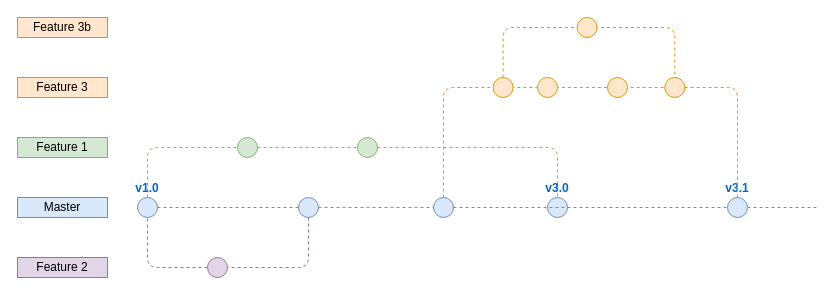
This 836x295 diagram has some shape labels left out. The centre of each missing label's shape, as x and y in pixels:
"v2.0" goes at [308,207].
"v2.1" goes at [443,207].
